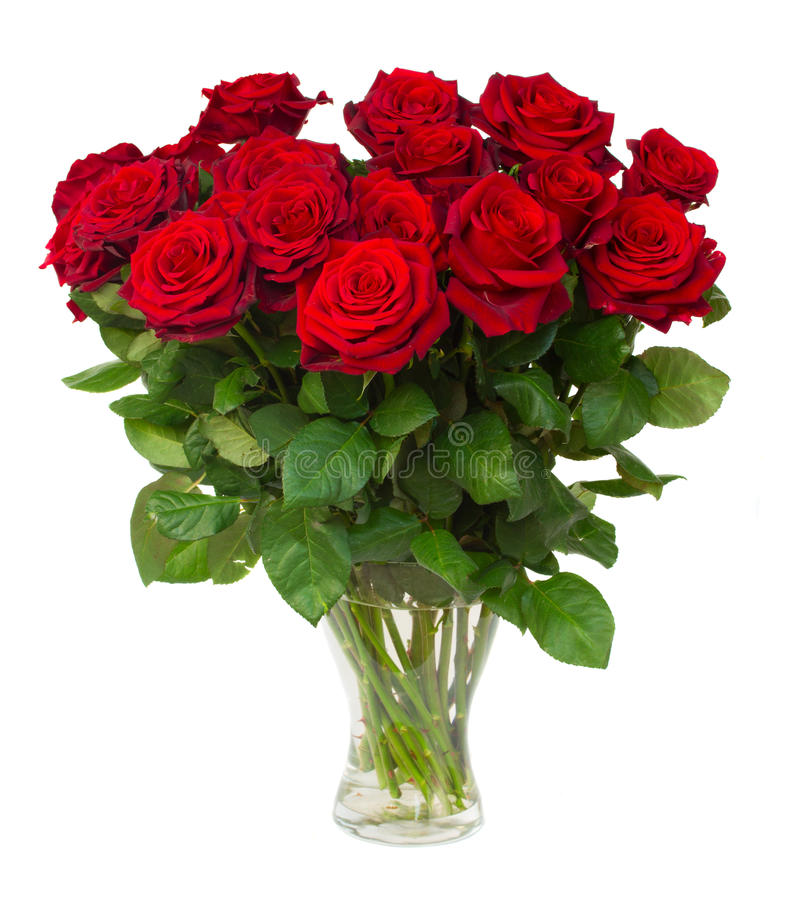RedRose: (434, 181, 583, 342), (578, 191, 723, 339), (291, 248, 443, 370), (125, 214, 258, 348), (476, 69, 626, 149), (355, 45, 471, 146), (200, 56, 333, 141), (339, 167, 450, 268), (626, 110, 742, 202), (233, 184, 342, 280), (71, 147, 176, 244), (208, 131, 325, 209), (388, 120, 486, 208), (518, 141, 620, 220), (44, 200, 115, 292), (155, 125, 232, 208), (41, 140, 145, 196)
